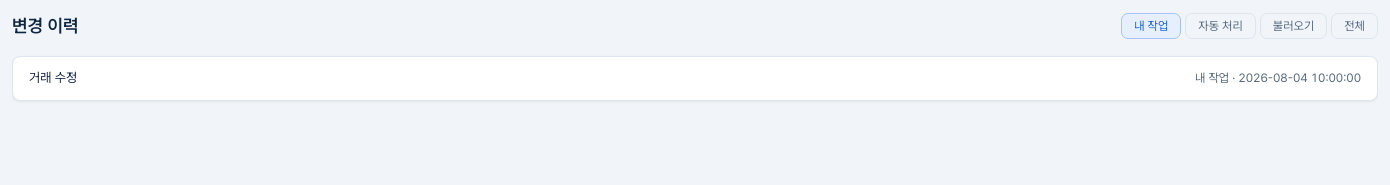
Test: C. 변경 내용 펼치기 › C-3. 안 바뀐 필드는 안 보인다
Click the button "거래 수정 내 작업 · 2026-08-04 10:00:00" at x=53, y=78, box [29,69,1361,88]
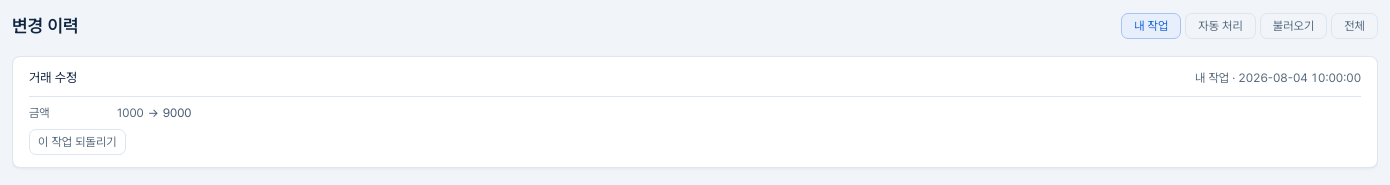
Check: the text "금액" is shown, box [29,106,50,120]
